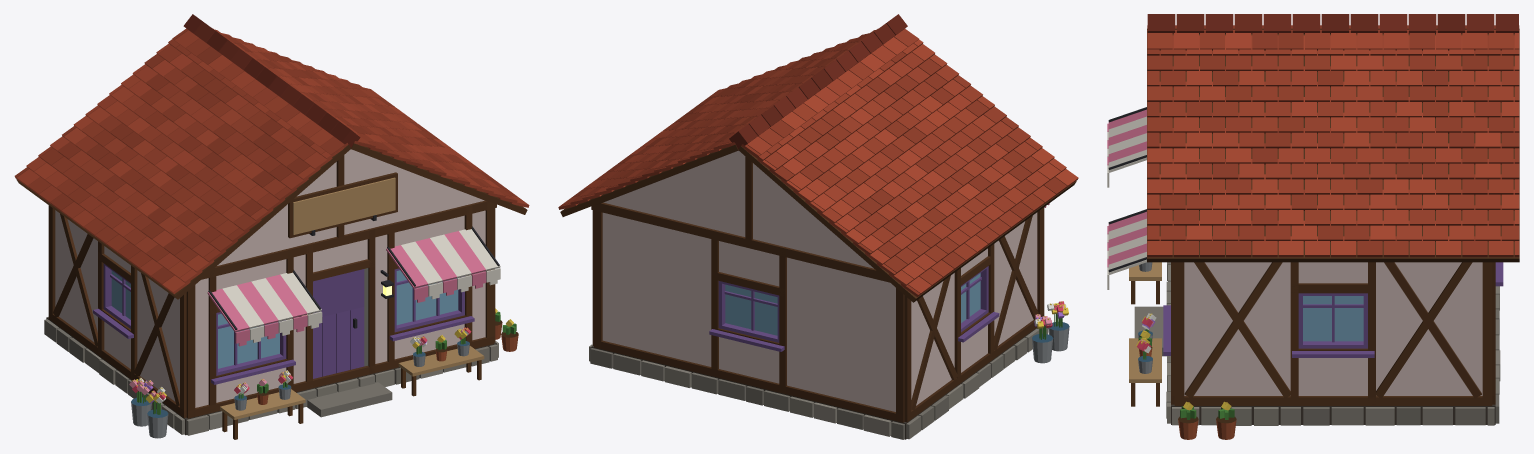
The model's file is tienda_flores.glb.
3 renders of one model, left to right at view 1: azimuth 30°, elevation 25°; view 2: azimuth 150°, elevation 25°; view 3: azimuth 270°, elevation 25°, orthographic. The views are drawn at different scales.
Parts seen in each view (by area): view 1: SM_Tienda_flores; view 2: SM_Tienda_flores; view 3: SM_Tienda_flores.
Boxes of the visible parts, box(x1,y1,x2,y2) form: SM_Tienda_flores: box(14, 14, 529, 439); SM_Tienda_flores: box(558, 14, 1078, 439); SM_Tienda_flores: box(1107, 14, 1519, 439).
Bounding box in the file's own units: 7.27 × 5.14 × 5.98.
